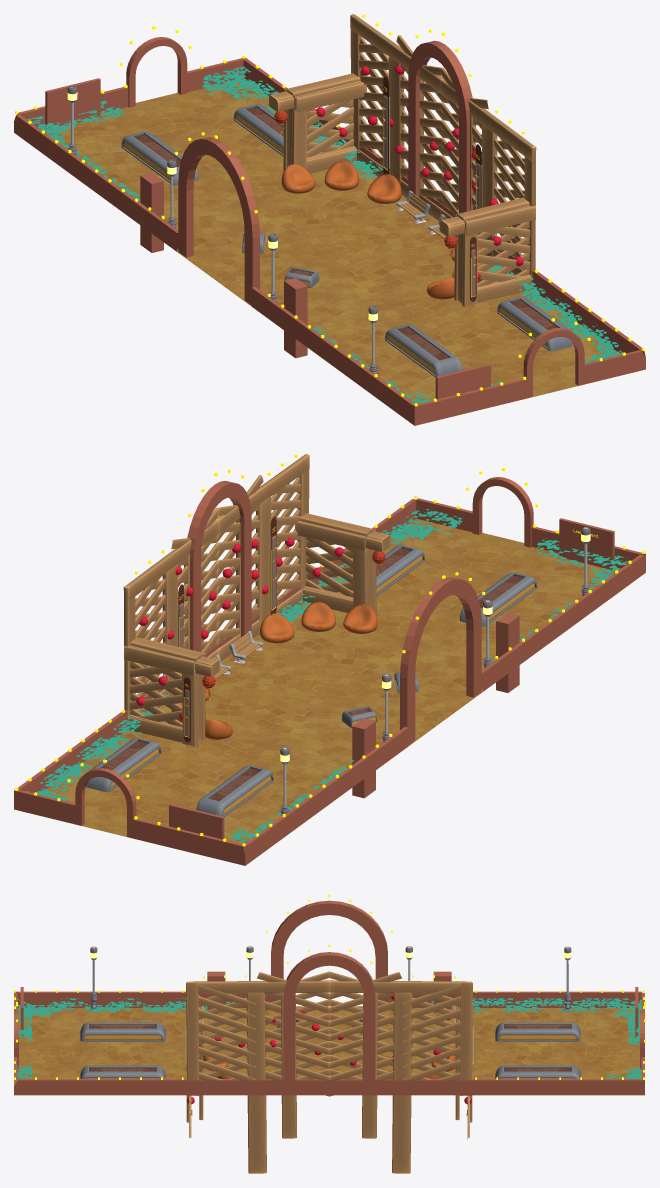
Rendered from TheLivingGarden_DemoScene.glb.
3 renders of one model, top to bottom at view 1: azimuth 30°, elevation 25°; view 2: azimuth 150°, elevation 25°; view 3: azimuth 270°, elevation 25°, orthographic. The views are drawn at different scales.
Visible parts, largest first — view 1: Plane.065, Cube.122, PotMiddleLarge (×4), BenchStreet.013, Cylinder.014, Cylinder.013, BenchStreet.014, Cube.133, Cylinder.012, BenchStreet.037, BenchStreet.019, Cube.126 (+21 smaller); view 2: Plane.065, Cube.122, PotMiddleLarge (×4), BenchStreet.013, Cylinder.014, Cylinder.013, BenchStreet.014, Cube.133, Cylinder.012, BenchStreet.037, BenchStreet.019, Cube.126 (+21 smaller); view 3: Plane.065, Cube.122, BenchStreet.013, BenchStreet.014, BenchStreet.019, PotMiddleLarge (×4), Cylinder.013, Cylinder.014, BenchStreet.037, BenchStreet.020, BenchStreet.018, Plane.083 (+6 smaller).
Part boxes in pixels (x1,y1,x2,y2): Plane.065: (40, 78, 616, 403); Cube.122: (14, 58, 645, 425); PotMiddleLarge (×4): (121, 104, 573, 377); BenchStreet.013: (396, 35, 488, 215); Cylinder.014: (178, 137, 259, 305); Cylinder.013: (408, 40, 472, 213); BenchStreet.014: (359, 37, 524, 257); Cube.133: (45, 78, 490, 399); Cylinder.012: (126, 37, 584, 398); BenchStreet.037: (350, 14, 535, 160); BenchStreet.019: (388, 56, 497, 256); Cube.126: (140, 172, 307, 358); Plane.065: (46, 518, 620, 843); Cube.122: (14, 498, 645, 865); PotMiddleLarge (×4): (86, 545, 537, 817); BenchStreet.013: (171, 475, 263, 655); Cylinder.014: (400, 577, 481, 745); Cylinder.013: (187, 480, 251, 651); BenchStreet.014: (135, 477, 300, 697); Cube.133: (169, 518, 614, 839); Cylinder.012: (75, 477, 533, 838); BenchStreet.037: (124, 454, 309, 600); BenchStreet.019: (162, 496, 271, 696); Cube.126: (352, 612, 519, 798); Plane.065: (14, 1006, 641, 1085); Cube.122: (14, 991, 644, 1095); BenchStreet.013: (257, 971, 401, 1096); BenchStreet.014: (197, 984, 461, 1095); BenchStreet.019: (246, 992, 412, 1173); PotMiddleLarge (×4): (80, 1022, 580, 1078); Cylinder.013: (283, 952, 375, 1095); Cylinder.014: (271, 900, 387, 1002); BenchStreet.037: (186, 980, 472, 993); BenchStreet.020: (186, 982, 472, 1080); BenchStreet.018: (281, 992, 378, 1138); Plane.083: (17, 1001, 641, 1078).
Size of what is drawn, in the model's own units: 16 by 19.14 by 48.07.
Materials: 13 (7 with a texture image).
